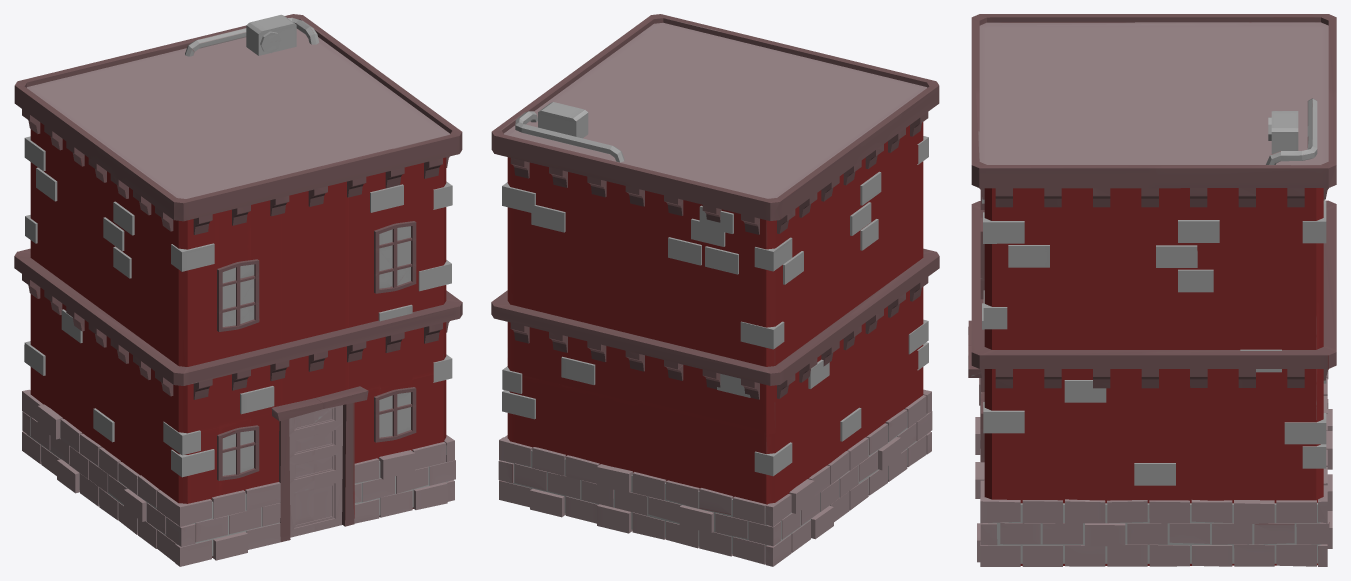
Rendered from dark_red_house_v3.fbx.
3 renders of one model, left to right at view 1: azimuth 30°, elevation 25°; view 2: azimuth 150°, elevation 25°; view 3: azimuth 270°, elevation 25°, orthographic. The views are drawn at different scales.
Parts seen in each view (by area): view 1: _2_story_dark_red_house; view 2: _2_story_dark_red_house; view 3: _2_story_dark_red_house.
Part boxes in pixels (x1,y1,x2,y2): _2_story_dark_red_house: (14, 14, 462, 566); _2_story_dark_red_house: (491, 14, 939, 566); _2_story_dark_red_house: (968, 14, 1336, 566).
Bounding box in the file's own units: 922 × 1180 × 929.
